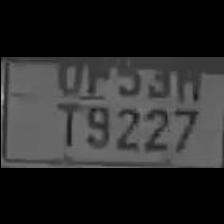2: (140, 102, 168, 152), (111, 102, 139, 150)
3: (144, 56, 172, 98)
5: (112, 57, 142, 96)
7: (168, 102, 198, 154)
9: (80, 99, 110, 149)
P: (80, 57, 111, 96)
T: (50, 95, 80, 147)
U: (50, 56, 84, 93)
